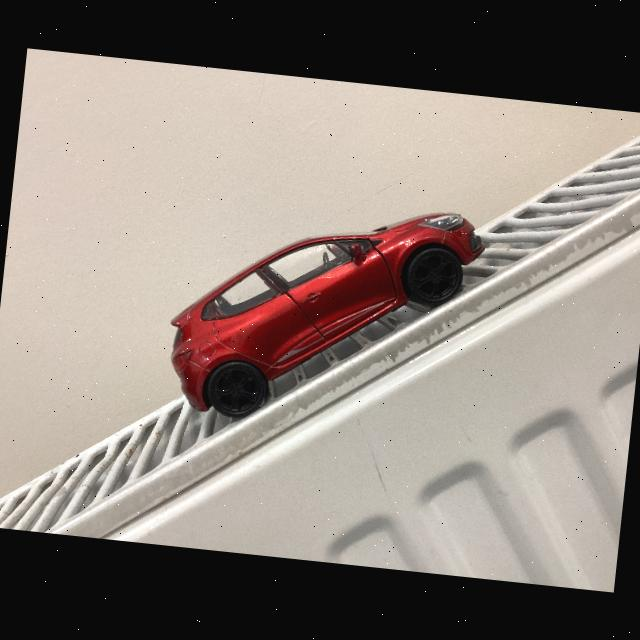Dogru_Jant: (410, 249, 460, 300), (211, 364, 262, 414)
